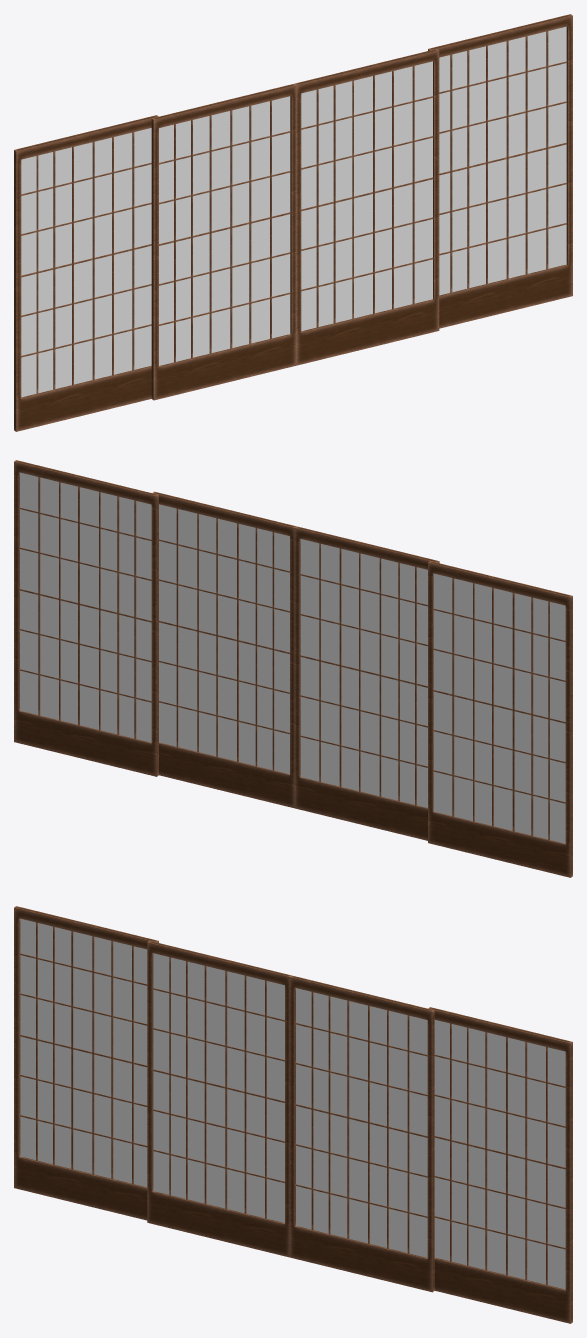
The model's file is Shoji_Door_1.fbx.
3 renders of one model, top to bottom at view 1: azimuth 30°, elevation 25°; view 2: azimuth 150°, elevation 25°; view 3: azimuth 330°, elevation 25°, orthographic.
Parts seen in each view (by area): view 1: Shoji_Door1_LOD0, Shoji_Door_LOD0, Shoji_Door3_LOD0, Shoji_Door2_LOD0; view 2: Shoji_Door2_LOD0, Shoji_Door3_LOD0, Shoji_Door_LOD0, Shoji_Door1_LOD0; view 3: Shoji_Door_LOD0, Shoji_Door1_LOD0, Shoji_Door2_LOD0, Shoji_Door3_LOD0.
Boxes of the visible parts, left/top/right/bottom form: Shoji_Door1_LOD0: left=151, top=84, right=296, bottom=400; Shoji_Door_LOD0: left=294, top=49, right=439, bottom=365; Shoji_Door3_LOD0: left=14, top=115, right=158, bottom=431; Shoji_Door2_LOD0: left=428, top=14, right=572, bottom=328; Shoji_Door2_LOD0: left=14, top=460, right=158, bottom=776; Shoji_Door3_LOD0: left=428, top=561, right=572, bottom=877; Shoji_Door_LOD0: left=152, top=491, right=296, bottom=808; Shoji_Door1_LOD0: left=294, top=526, right=439, bottom=840; Shoji_Door_LOD0: left=289, top=975, right=434, bottom=1292; Shoji_Door1_LOD0: left=147, top=940, right=291, bottom=1257; Shoji_Door2_LOD0: left=428, top=1007, right=572, bottom=1323; Shoji_Door3_LOD0: left=14, top=906, right=158, bottom=1220.
Size of what is drawn, in the model's own units: 497 by 239 by 6.85.
